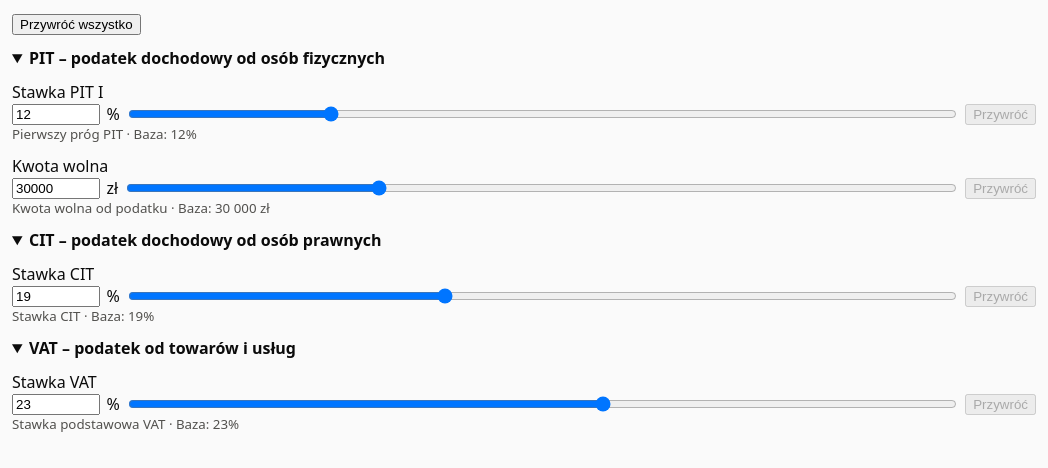
Test: ParameterPanel › rejects out-of-range input with a Polish message
The width and height of the screenshot is (1048, 468).
Replace the text in the field labelled "Stawka CIT" with "80": [56, 296] box [12,286,100,306]
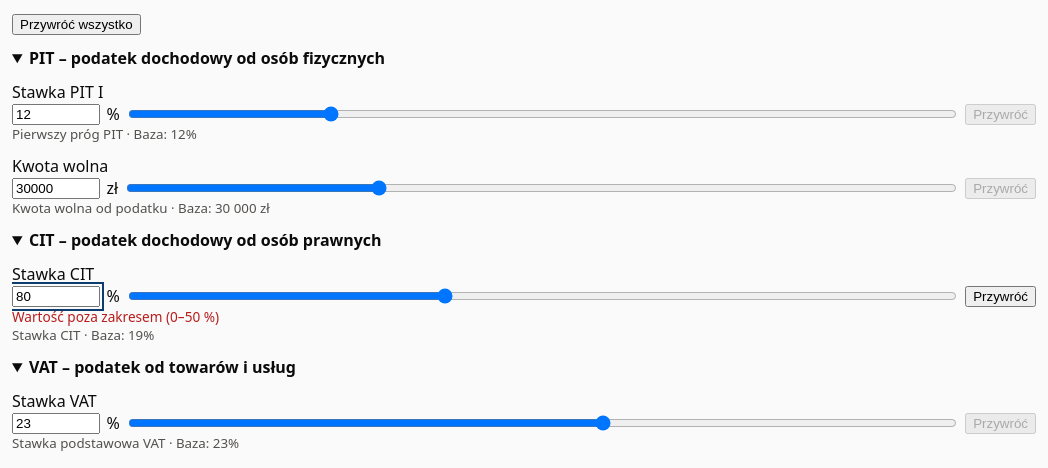
Now the message shows "Wartość poza zakresem", box [12,307,219,326]
